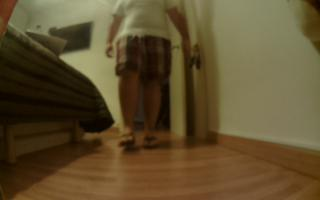person: (104, 1, 193, 148)
